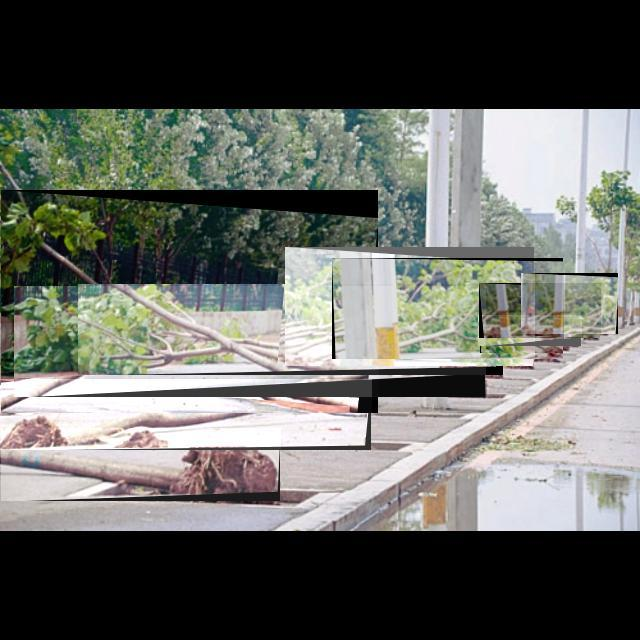fallen_tree: (1, 190, 379, 414), (14, 286, 486, 398), (78, 284, 504, 376), (285, 247, 535, 367), (0, 379, 372, 451), (332, 258, 564, 360), (1, 428, 281, 502), (479, 283, 601, 339), (521, 273, 619, 335), (478, 315, 582, 347), (480, 330, 564, 354)
